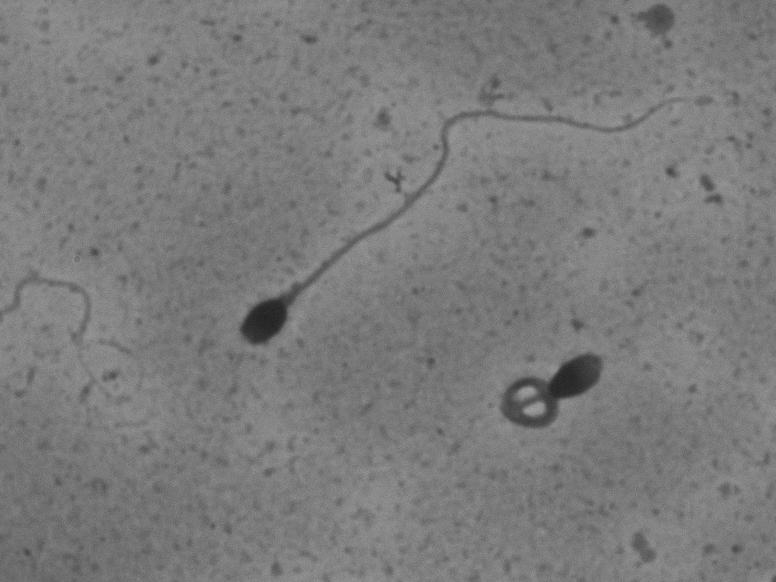Abnormal: (483, 339, 652, 471)
Normal: (201, 76, 718, 359)
